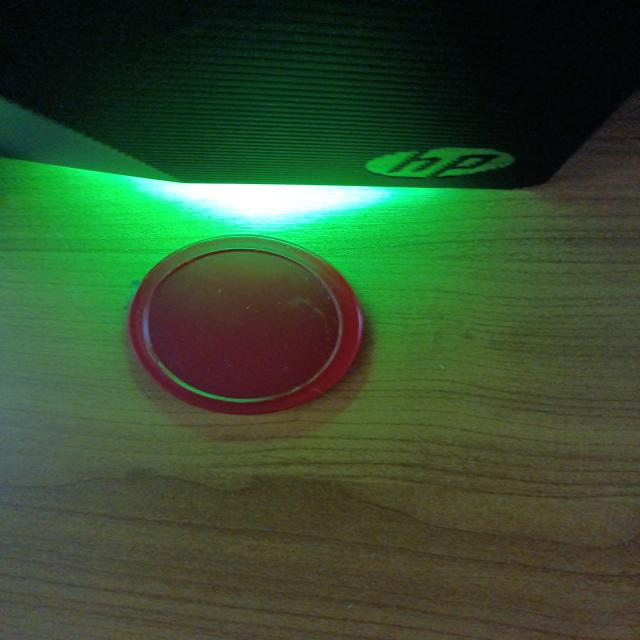chip: (124, 233, 366, 412)
